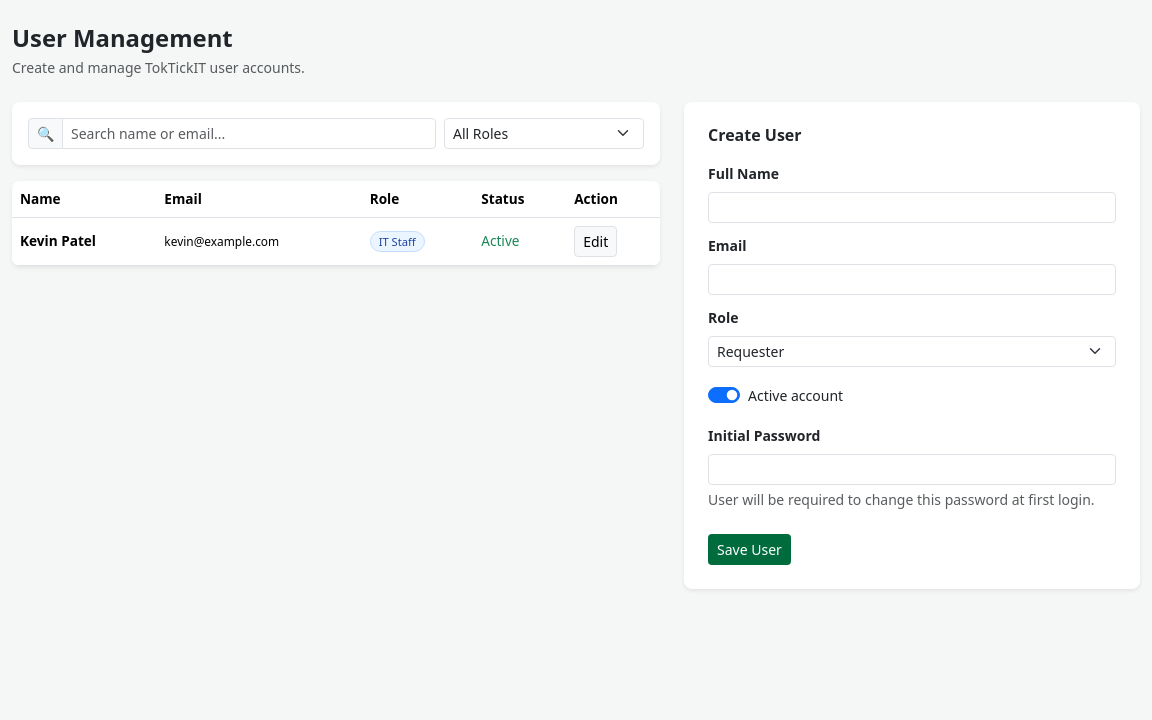
UserManagementPage › shows safe conflict and failure messages
Check: the text "Kevin Patel" is shown, box left=12, top=218, right=156, bottom=266
Click the button "Edit".
click(596, 242)  # box left=574, top=226, right=617, bottom=257
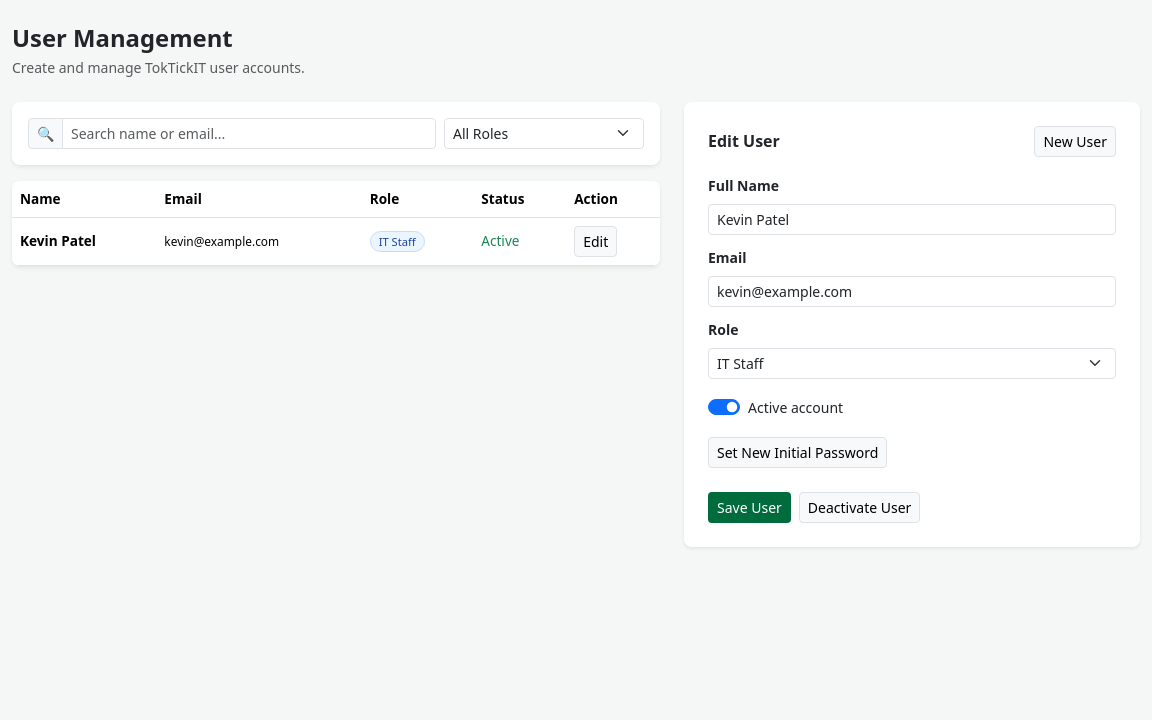
Click the button "Save User".
click(749, 507)  # box left=708, top=492, right=791, bottom=523
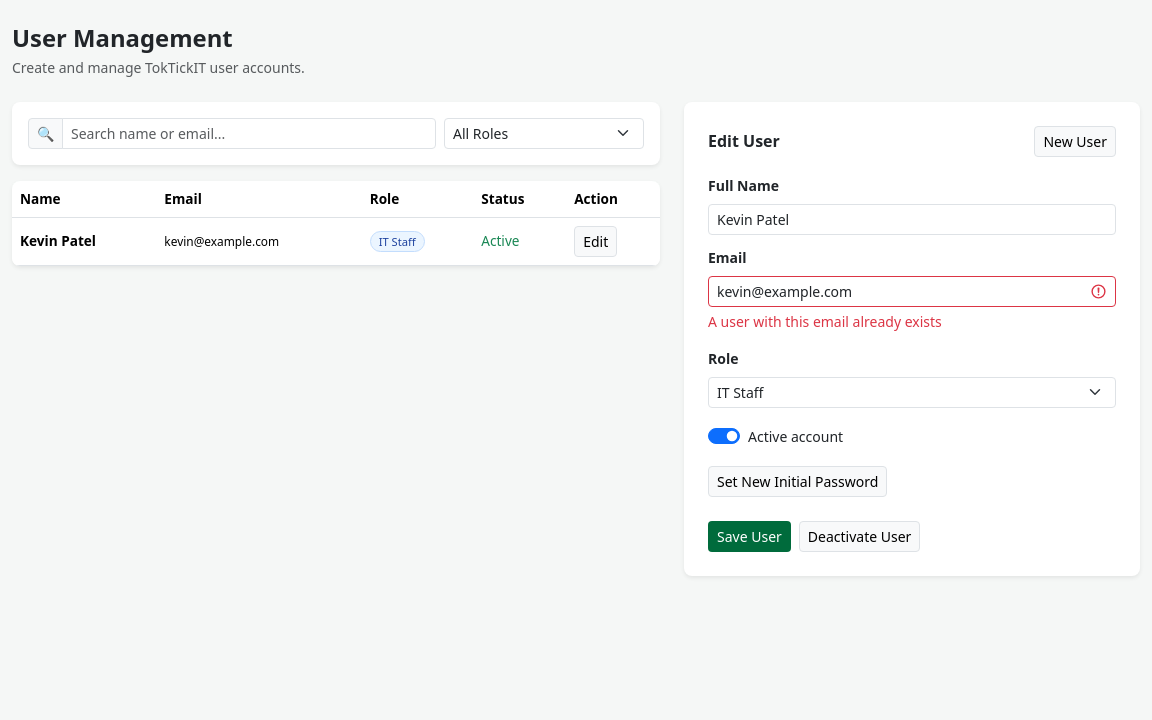
Check: the text "A user with this email already exists" is shown, box left=708, top=312, right=942, bottom=331
